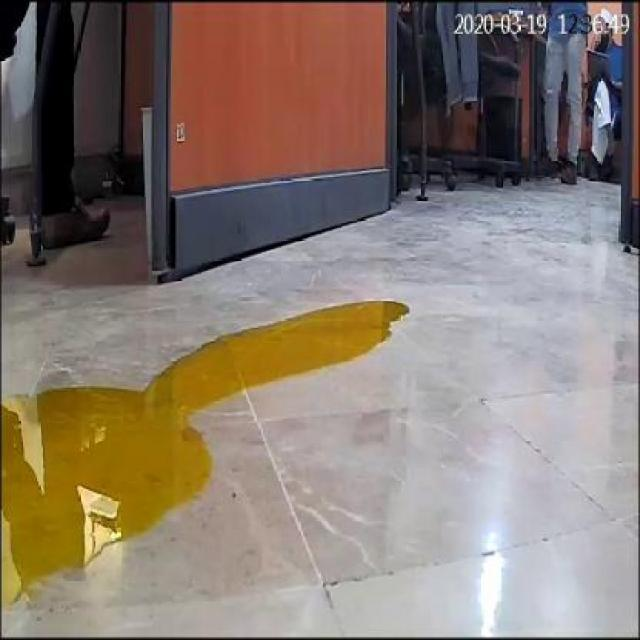spill: (1, 297, 408, 597)
